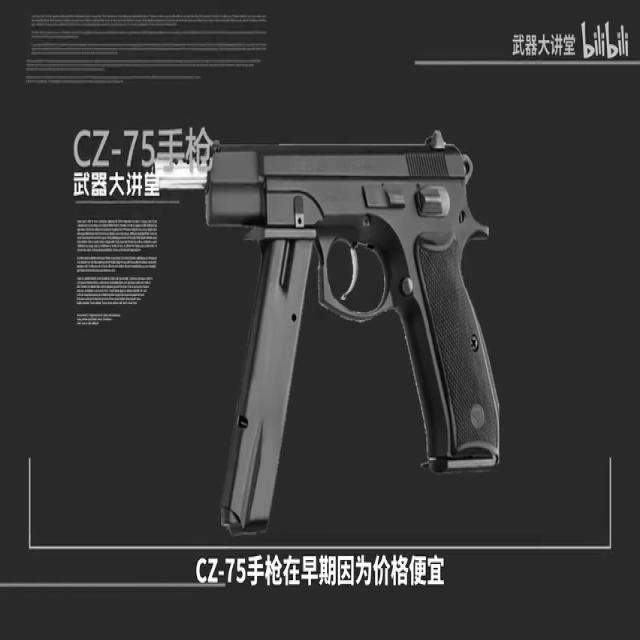Hand-Gun: (144, 125, 507, 550)
